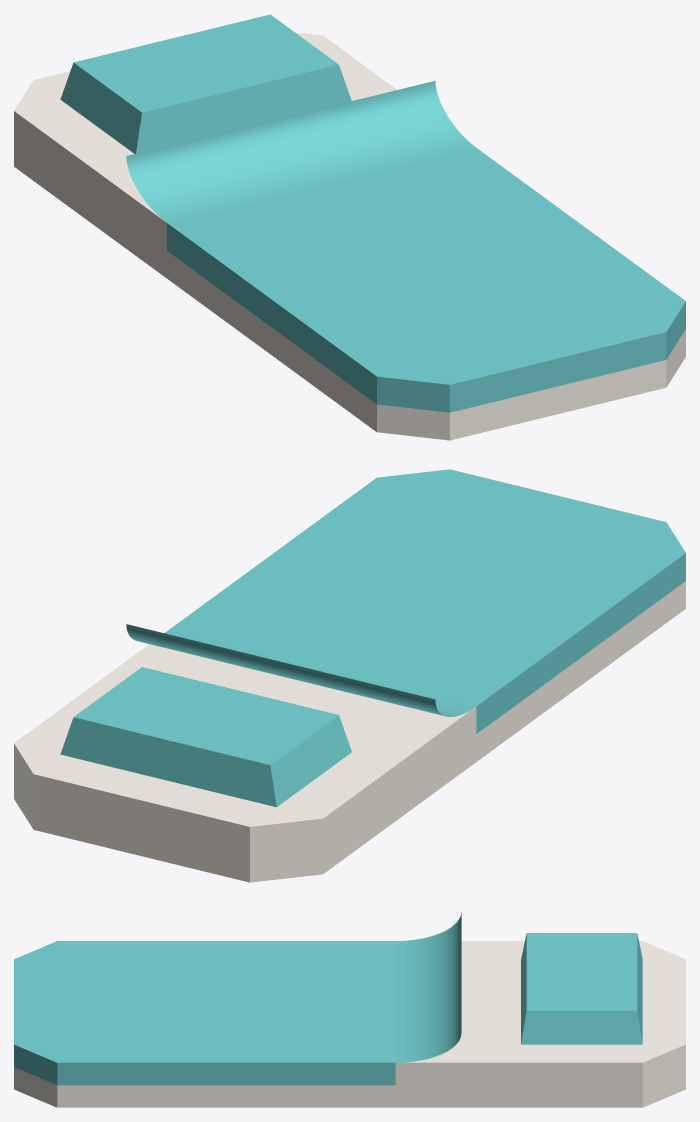
Rendered from bed_floor.gltf.
3 views of the same model, one above another, from view 1: azimuth 30°, elevation 25°; view 2: azimuth 150°, elevation 25°; view 3: azimuth 270°, elevation 25° (orthographic). The views are drawn at different scales.
Parts seen in each view (by area): view 1: bed_floor; view 2: bed_floor; view 3: bed_floor.
Boxes of the visible parts, x1=… form: bed_floor: x1=14, y1=14, x2=685, y2=440; bed_floor: x1=14, y1=469, x2=685, y2=882; bed_floor: x1=14, y1=911, x2=685, y2=1107.
Size of the model in its own units: 0.3203 by 0.0921 by 0.7473.
